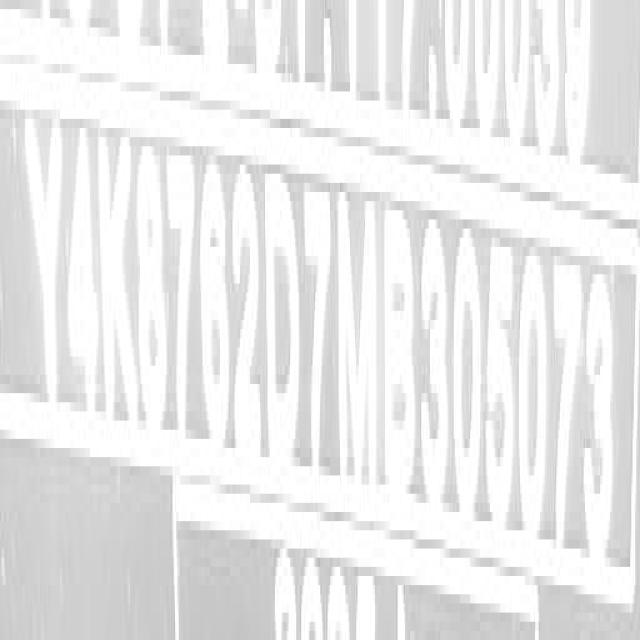0: (518, 243, 550, 542), (452, 220, 482, 526)
2: (232, 166, 262, 463)
3: (585, 244, 614, 563), (420, 217, 450, 501)
4: (66, 112, 99, 406)
5: (486, 227, 515, 526)
6: (200, 154, 234, 453)
7: (166, 139, 198, 443), (554, 249, 584, 556), (302, 186, 332, 481)
8: (134, 135, 168, 437)
B: (384, 200, 417, 504)
D: (264, 156, 298, 470)
K: (98, 119, 139, 430)
M: (341, 188, 381, 483)
Y: (26, 105, 66, 429)
